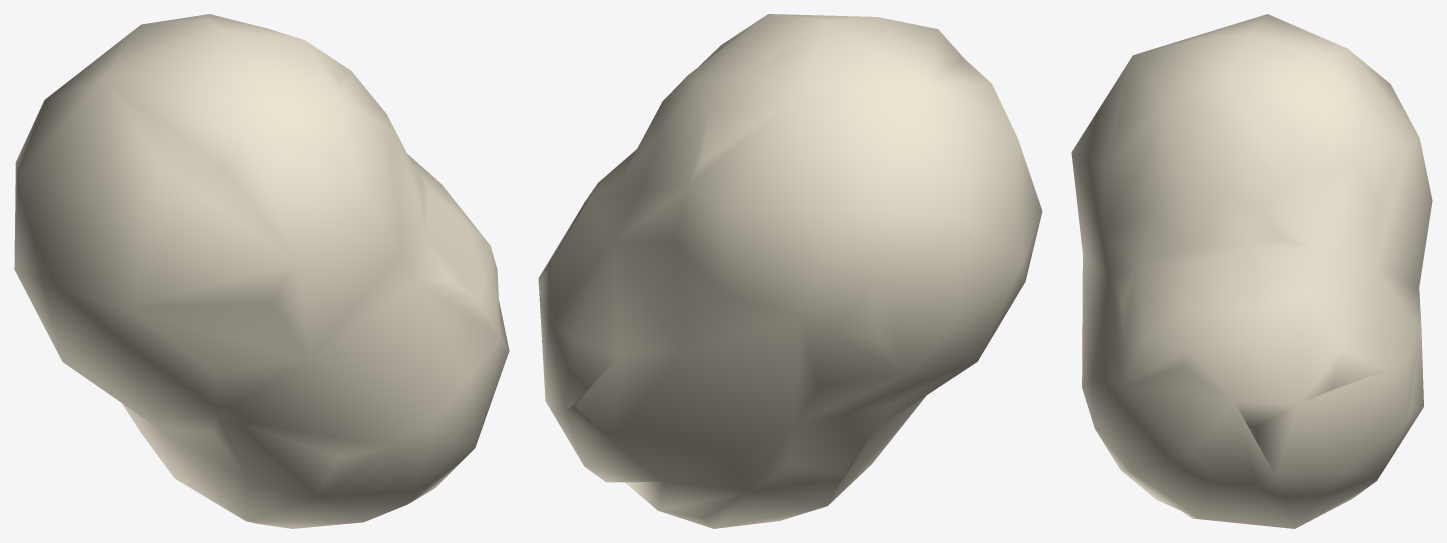
The model's file is caudal_7.glb.
3 renders of one model, left to right at view 1: azimuth 30°, elevation 25°; view 2: azimuth 150°, elevation 25°; view 3: azimuth 270°, elevation 25°, orthographic. The views are drawn at different scales.
Visible parts, largest first — view 1: geometry_0; view 2: geometry_0; view 3: geometry_0.
Part boxes in pixels (x1=…): geometry_0: x1=14, y1=14, x2=509, y2=528; geometry_0: x1=538, y1=14, x2=1042, y2=528; geometry_0: x1=1071, y1=14, x2=1432, y2=528.
Bounding box in the file's own units: 0.0488 × 0.0529 × 0.039.
